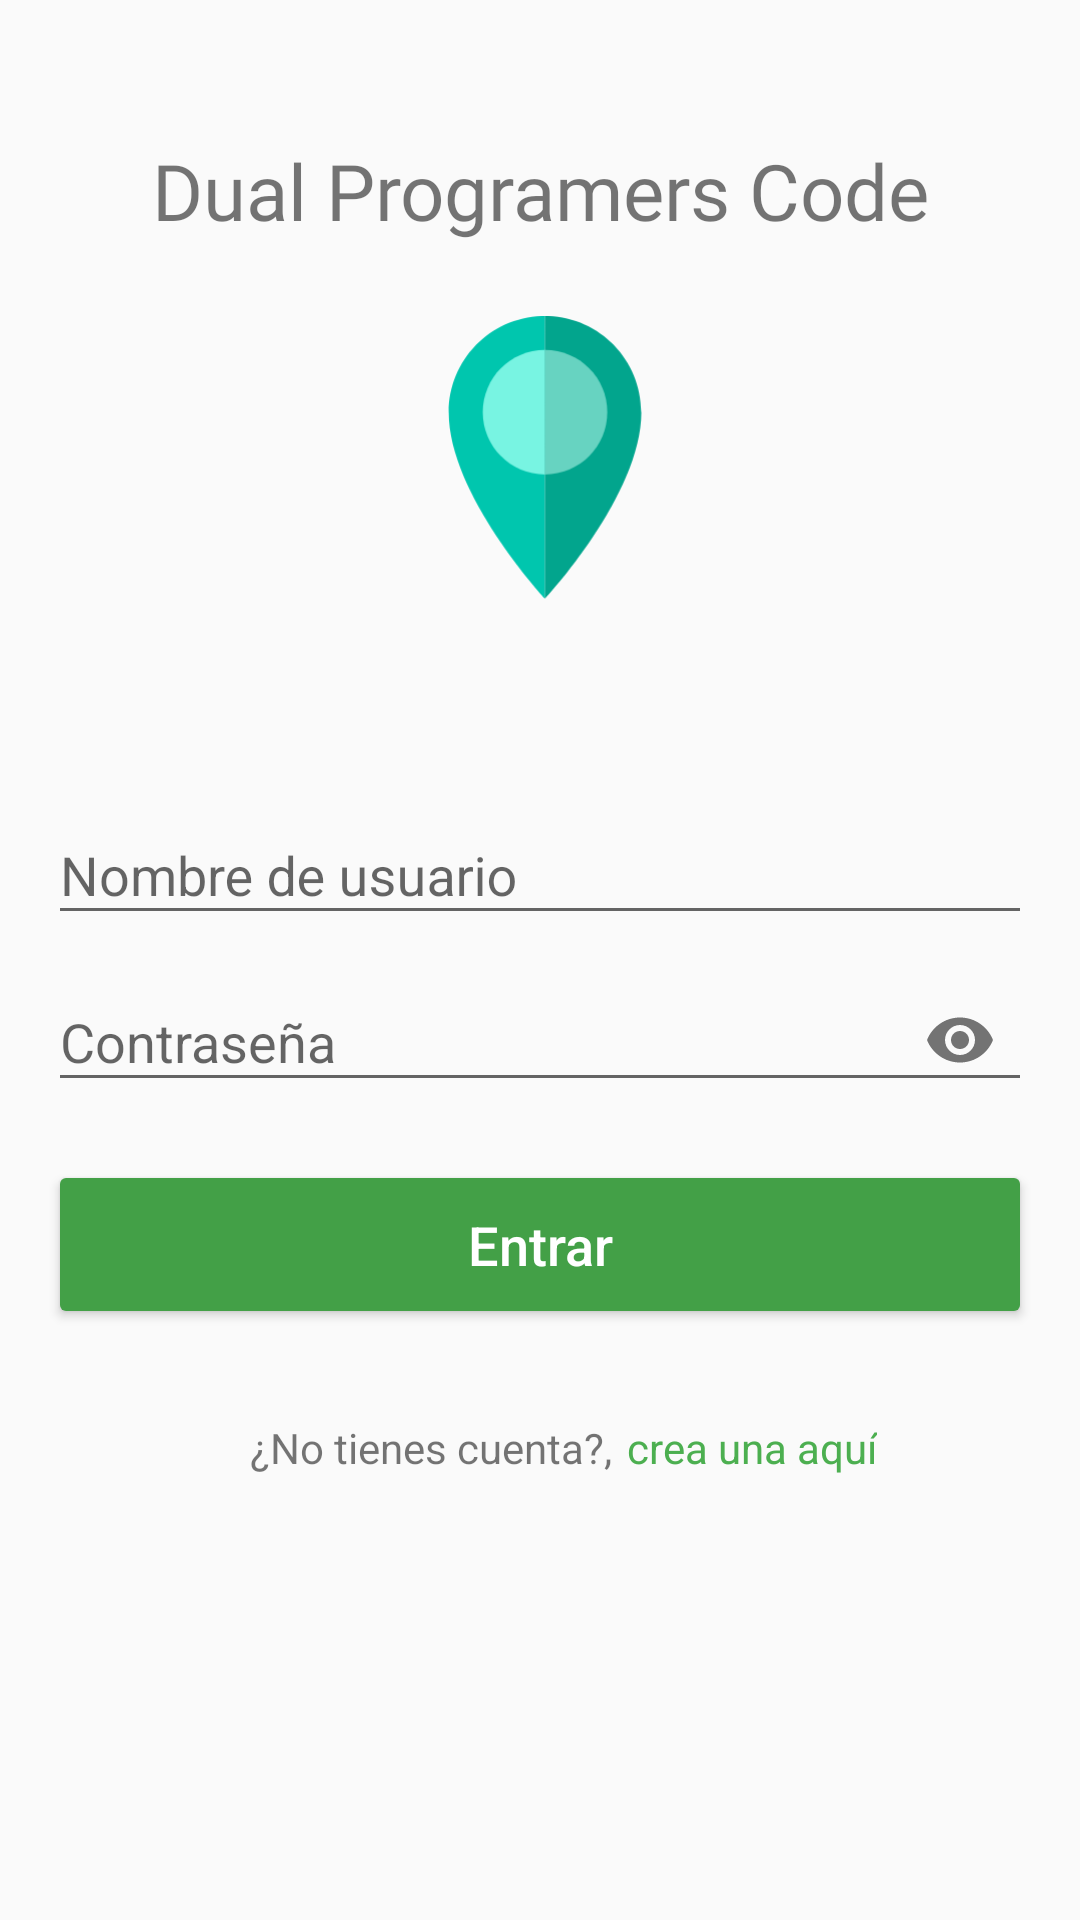

Icon bounding boxes for this 1080 x 1920 phone screenshot, format [x1, y1, x2, y2]:
map pin turquoise: [448, 316, 642, 599]
